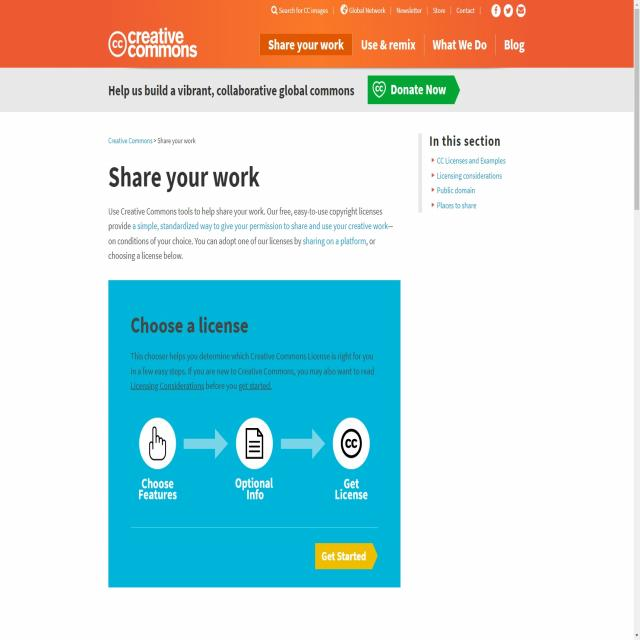menu-panel: (256, 30, 533, 64)
side-panel: (426, 123, 514, 214)
